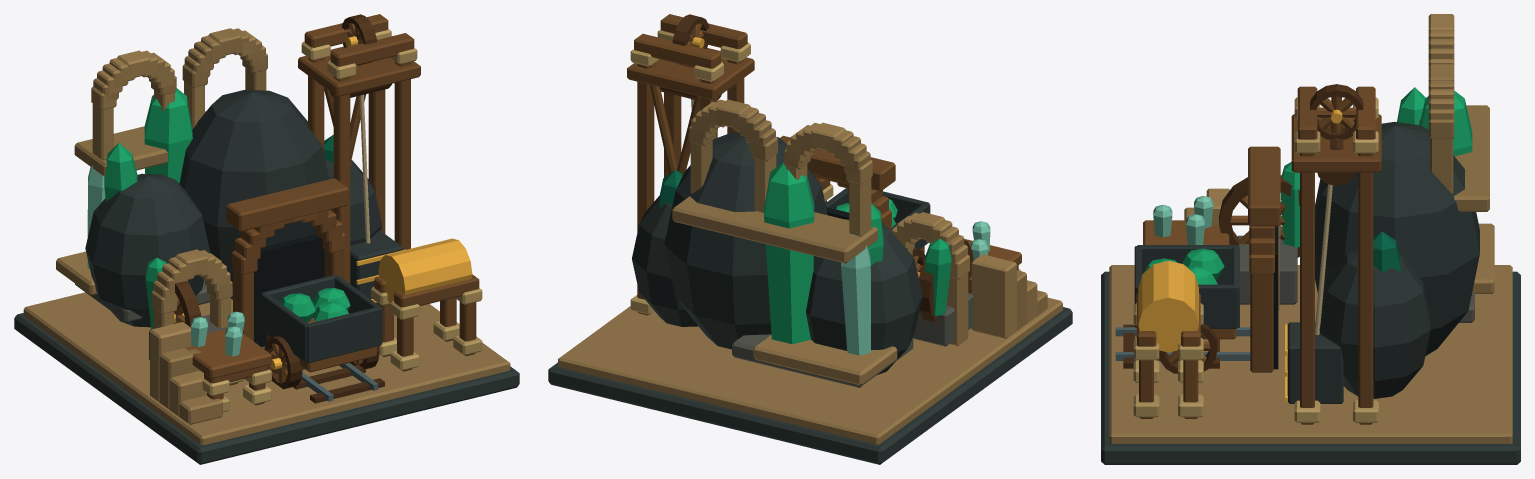
The picture shows the model from 3 angles, left to right: view 1: azimuth 30°, elevation 25°; view 2: azimuth 150°, elevation 25°; view 3: azimuth 270°, elevation 25°; orthographic projection. The views are drawn at different scales.
Visible parts, largest first — view 1: gem_mine_11_structure, gem_mine_11_metal; view 2: gem_mine_11_structure; view 3: gem_mine_11_structure, gem_mine_11_metal.
Part boxes in pixels (bbox=[...]): gem_mine_11_structure: bbox=[14, 14, 519, 464]; gem_mine_11_metal: bbox=[174, 36, 472, 369]; gem_mine_11_structure: bbox=[548, 14, 1072, 464]; gem_mine_11_structure: bbox=[1101, 14, 1520, 464]; gem_mine_11_metal: bbox=[1138, 109, 1342, 401].
Size of the model in its own units: 3.6 by 3.29 by 3.6.
